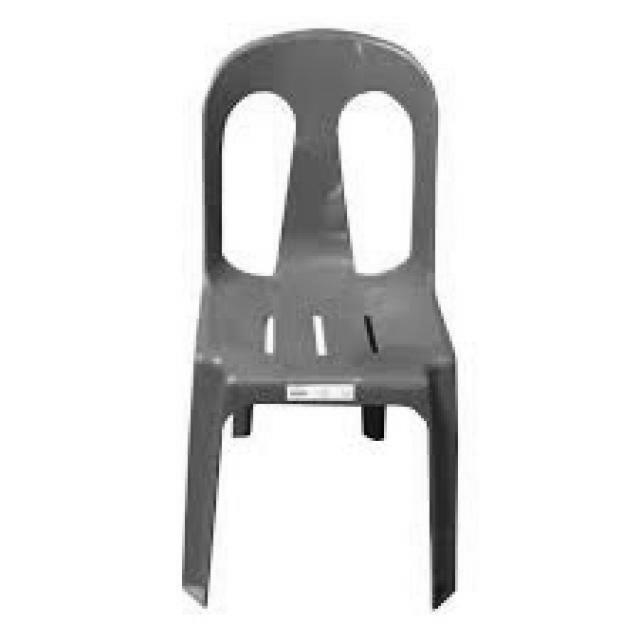chair: (181, 24, 458, 608)
